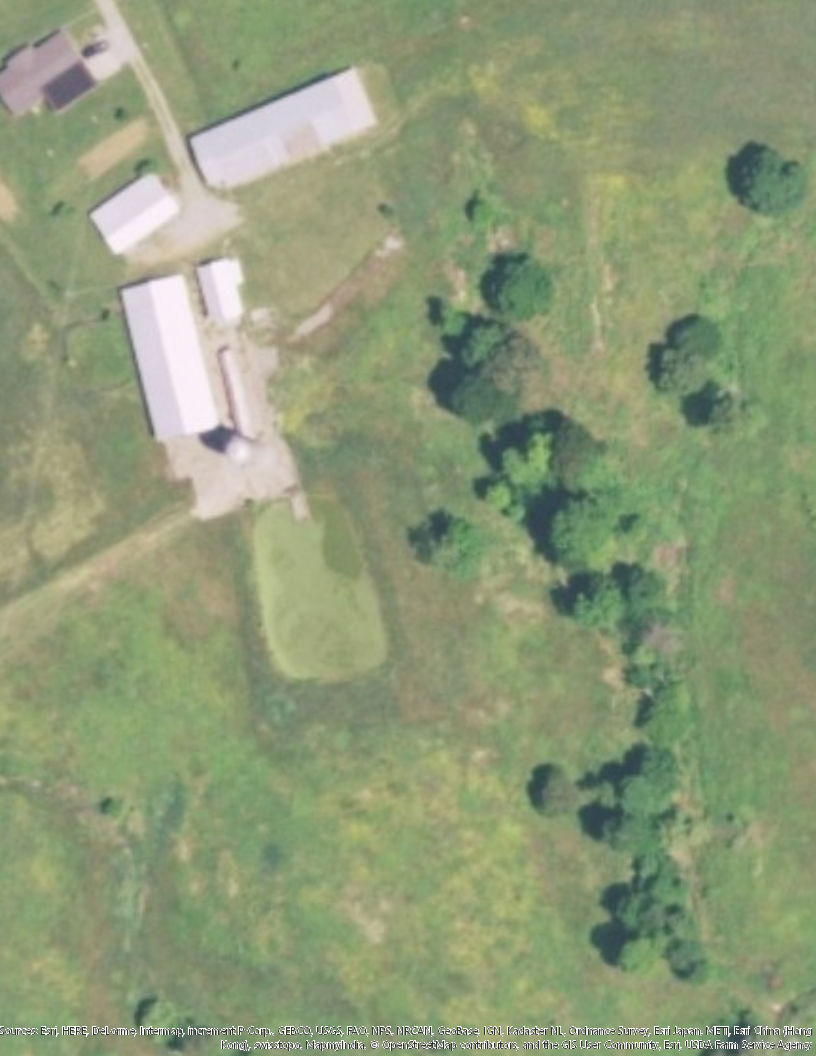cafo: (115, 256, 258, 446), (187, 60, 382, 190), (89, 172, 174, 258)
